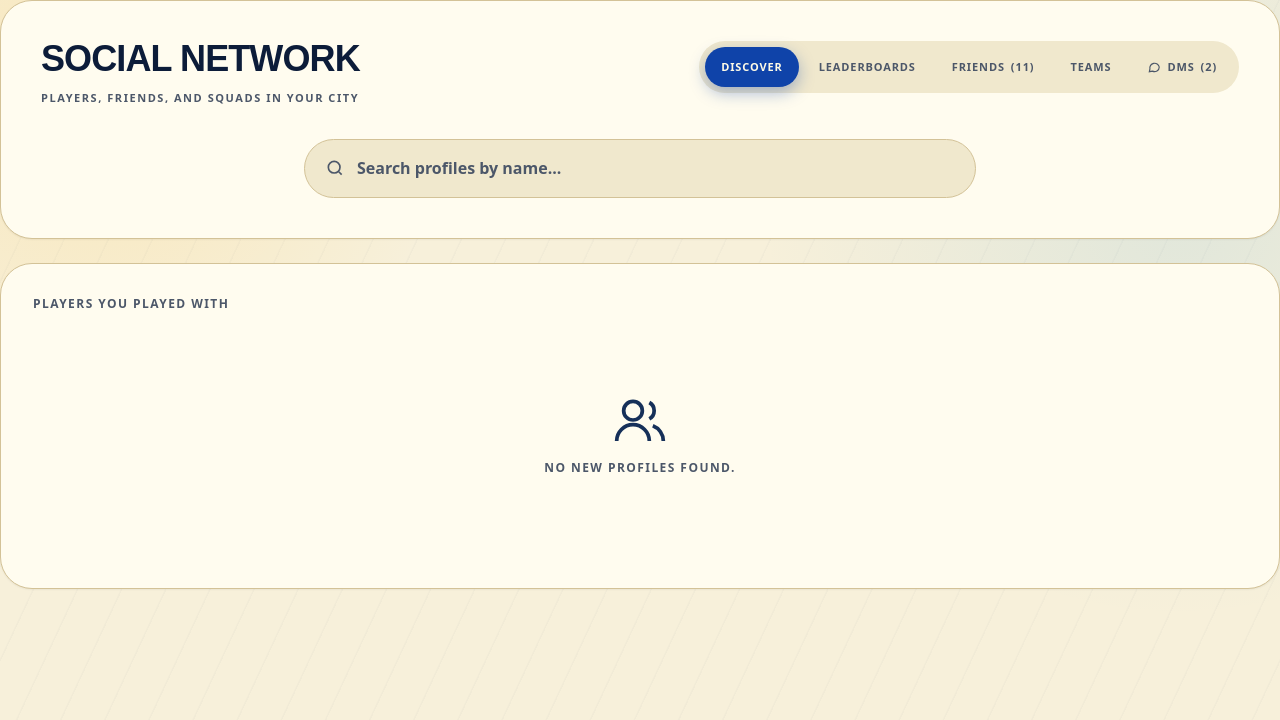
Scenario: Social page (Gate 9 / TKT-902) › matches the CEO layout: title, subtitle, five tabs (Leaderboards after Discover, CEO batch 3.5) with counts and a search box
Expected: the heading "Social network" is shown, left=41, top=41, right=360, bottom=77
Expected: the text "Players, friends, and squads in your city" is shown, left=41, top=89, right=360, bottom=107
Click the tab "Friends (11)".
click(993, 67)  # box left=936, top=47, right=1050, bottom=87
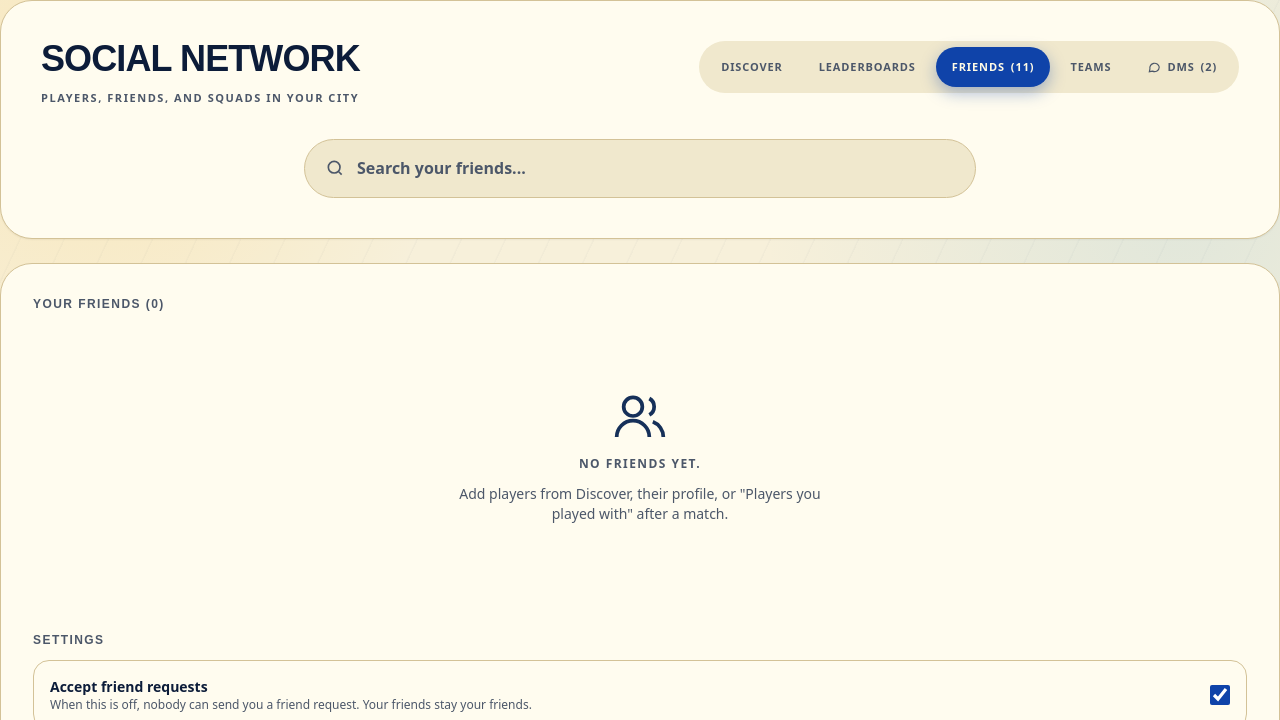
Result: the field with placeholder "Search your friends..." is shown at left=357, top=156, right=955, bottom=181
